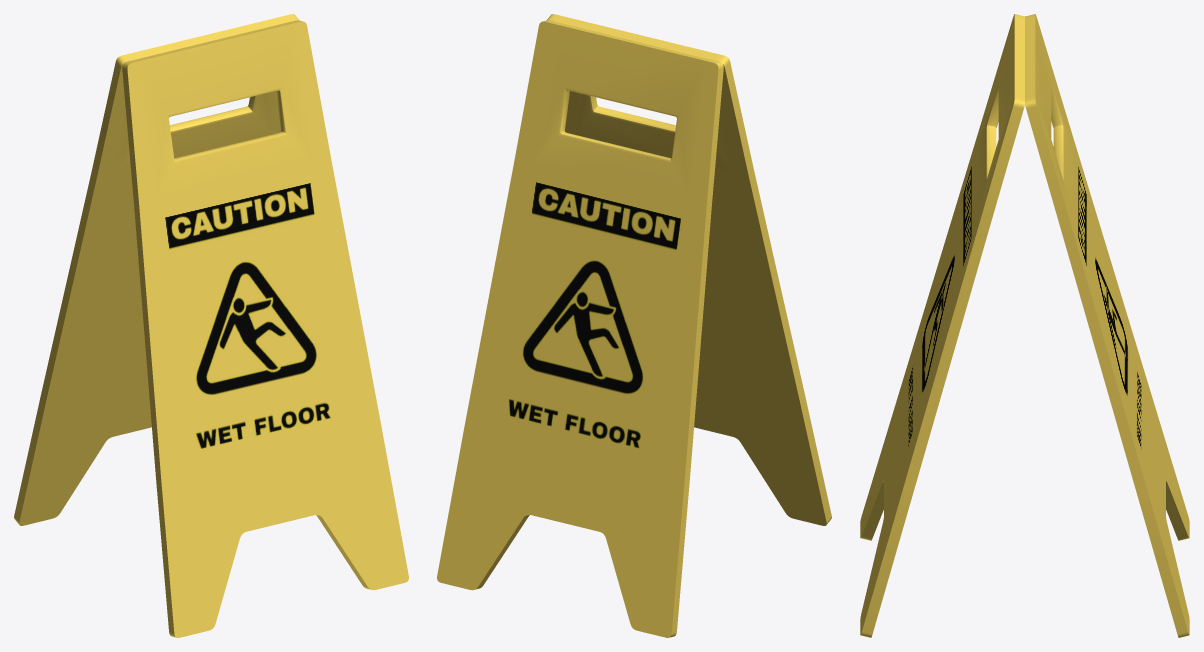
Rendered from Wet_Floor_Sign.fbx.
The picture shows the model from 3 angles, left to right: view 1: azimuth 30°, elevation 25°; view 2: azimuth 150°, elevation 25°; view 3: azimuth 270°, elevation 25°; orthographic projection.
Visible parts, largest first — view 1: Wet_Floor_Sign_A, Wet_Floor_Sign_B; view 2: Wet_Floor_Sign_B, Wet_Floor_Sign_A; view 3: Wet_Floor_Sign_A, Wet_Floor_Sign_B.
Boxes of the visible parts, bbox=[...] form: Wet_Floor_Sign_A: bbox=[122, 20, 408, 637]; Wet_Floor_Sign_B: bbox=[14, 14, 299, 525]; Wet_Floor_Sign_B: bbox=[437, 20, 723, 637]; Wet_Floor_Sign_A: bbox=[546, 14, 831, 525]; Wet_Floor_Sign_A: bbox=[860, 14, 1024, 637]; Wet_Floor_Sign_B: bbox=[1025, 14, 1189, 637].
Size of the model in its own units: 99.77 by 209 by 119.
Materials: 1 (1 with a texture image).
